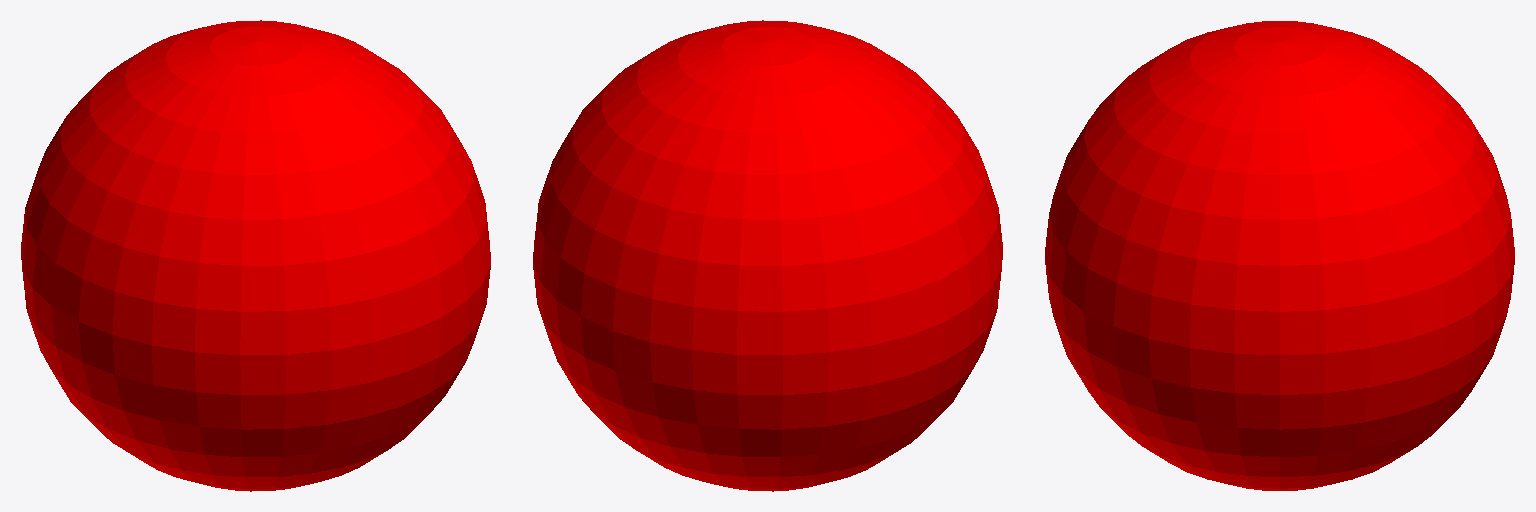
URDF robot description (z-bot2_fe_urdf):
<?xml version="1.0" ?>
<robot name="z-bot2_fe_urdf">
  <link name="floating_base_link">
    <visual name="floating_base_link_visual">
      <geometry name="floating_base_link_geometry">
        <sphere radius="0.01"/>
      </geometry>
      <material name="floating_base_link_material">
        <color rgba="1 0 0 1"/>
      </material>
      <origin xyz="0 0 0" rpy="0.00 0.00 1.57"/>
    </visual>
    <inertial name="floating_base_link_inertial">
      <mass value="0.001"/>
      <inertia ixx="0.000001" iyy="0.000001" izz="0.000002" ixy="0" ixz="0" iyz="0"/>
      <origin xyz="0 0 0" rpy="0.00 0.00 1.57"/>
    </inertial>
  </link>
  <joint name="floating_base_joint" type="fixed">
    <parent link="floating_base_link"/>
    <child link="Z_BOT2_MASTER_BODY_SKELETON"/>
    <origin xyz="0 0 0" rpy="0.00 0.00 1.57"/>
  </joint>
  <joint name="imu" type="fixed">
    <origin xyz="0.044470 0.006575 -0.025518" rpy="1.570796 0 -1.570796"/>
    <parent link="Z_BOT2_MASTER_BODY_SKELETON"/>
    <child link="IMU_2"/>
  </joint>
  <joint name="left_shoulder_yaw" type="revolute">
    <origin xyz="0.055995 -0.010610 -0.009528" rpy="1.570796 0 -3.141593"/>
    <parent link="Z_BOT2_MASTER_BODY_SKELETON"/>
    <child link="Z_BOT2_MASTER_SHOULDER2"/>
    <limit effort="2" velocity="2" lower="-1.047198" upper="0"/>
    <axis xyz="0 0 1"/>
  </joint>
  <joint name="right_shoulder_yaw" type="revolute">
    <origin xyz="-0.055995 -0.010610 -0.009528" rpy="-1.570796 0 0"/>
    <parent link="Z_BOT2_MASTER_BODY_SKELETON"/>
    <child link="Z_BOT2_MASTER_SHOULDER2_2"/>
    <limit effort="2" velocity="2" lower="0" upper="1.047198"/>
    <axis xyz="0 0 1"/>
  </joint>
  <joint name="left_hip_yaw" type="revolute">
    <origin xyz="0.042808 0.007735 -0.083418" rpy="3.141593 0 3.141593"/>
    <parent link="Z_BOT2_MASTER_BODY_SKELETON"/>
    <child link="U_HIP_L"/>
    <limit effort="2" velocity="2" lower="-1.047198" upper="1.047198"/>
    <axis xyz="0 0 1"/>
  </joint>
  <joint name="right_hip_yaw" type="revolute">
    <origin xyz="-0.042868 0.007735 -0.083418" rpy="3.141593 0 3.141593"/>
    <parent link="Z_BOT2_MASTER_BODY_SKELETON"/>
    <child link="U_HIP_R"/>
    <limit effort="2" velocity="2" lower="-1.047198" upper="1.047198"/>
    <axis xyz="0 0 1"/>
  </joint>
  <joint name="left_shoulder_pitch" type="revolute">
    <origin xyz="-0.020845 -0.004900 0.018800" rpy="-1.570796 0 -1.570796"/>
    <parent link="Z_BOT2_MASTER_SHOULDER2"/>
    <child link="3215_1Flange"/>
    <limit effort="2" velocity="2" lower="-2.967060" upper="3.141593"/>
    <axis xyz="0 0 1"/>
  </joint>
  <joint name="right_shoulder_pitch" type="revolute">
    <origin xyz="-0.020845 0.004900 0.018800" rpy="1.570796 0 1.570796"/>
    <parent link="Z_BOT2_MASTER_SHOULDER2_2"/>
    <child link="3215_1Flange_2"/>
    <limit effort="2" velocity="2" lower="-3.141593" upper="2.967060"/>
    <axis xyz="0 0 1"/>
  </joint>
  <joint name="left_hip_roll" type="revolute">
    <origin xyz="0 0.017700 0.056400" rpy="-1.570796 0 0"/>
    <parent link="U_HIP_L"/>
    <child link="3215_BothFlange_5"/>
    <limit effort="2" velocity="2" lower="-0.174533" upper="1.570796"/>
    <axis xyz="0 0 -1.0"/>
  </joint>
  <joint name="right_hip_roll" type="revolute">
    <origin xyz="0 -0.017700 0.056400" rpy="-1.570796 0 -3.141593"/>
    <parent link="U_HIP_R"/>
    <child link="3215_BothFlange_6"/>
    <limit effort="2" velocity="2" lower="-1.570796" upper="0.174533"/>
    <axis xyz="0 0 1"/>
  </joint>
  <joint name="left_hip_pitch" type="revolute">
    <origin xyz="-0.006400 -0.032000 -0.017900" rpy="1.570796 0 -1.570796"/>
    <parent link="3215_BothFlange_5"/>
    <child link="3215_BothFlange_9"/>
    <limit effort="2" velocity="2" lower="-1.570796" upper="1.570796"/>
    <axis xyz="0 0 1"/>
  </joint>
  <joint name="right_hip_pitch" type="revolute">
    <origin xyz="-0.006400 -0.032000 -0.018900" rpy="1.570796 0 -1.570796"/>
    <parent link="3215_BothFlange_6"/>
    <child link="3215_BothFlange_10"/>
    <limit effort="2" velocity="2" lower="-1.570796" upper="1.570796"/>
    <axis xyz="0 0 1"/>
  </joint>
  <joint name="left_elbow" type="revolute">
    <origin xyz="0.092984 0.019800 -0.018600" rpy="1.570796 0 3.141593"/>
    <parent link="3215_1Flange"/>
    <child link="R_ARM_MIRROR_1"/>
    <limit effort="2" velocity="2" lower="-1.570796" upper="1.570796"/>
    <axis xyz="0 0 -1"/>
  </joint>
  <joint name="right_elbow" type="revolute">
    <origin xyz="0.092984 -0.019800 -0.018600" rpy="-1.570796 -1.570796 0"/>
    <parent link="3215_1Flange_2"/>
    <child link="L_ARM_MIRROR_1"/>
    <limit effort="2" velocity="2" lower="-1.570796" upper="1.570796"/>
    <axis xyz="0 0 1"/>
  </joint>
  <joint name="left_knee" type="revolute">
    <origin xyz="0.100000 0.010000 -0.001260" rpy="0 0 0"/>
    <parent link="3215_BothFlange_9"/>
    <child link="3215_BothFlange_13"/>
    <limit effort="2" velocity="2" lower="-1.221731" upper="2.792527"/>
    <axis xyz="0 0 1"/>
  </joint>
  <joint name="right_knee" type="revolute">
    <origin xyz="0.100000 -0.010000 -0.001260" rpy="0 0 0"/>
    <parent link="3215_BothFlange_10"/>
    <child link="3215_BothFlange_14"/>
    <limit effort="2" velocity="2" lower="-2.792527" upper="1.221731"/>
    <axis xyz="0 0 1"/>
  </joint>
  <joint name="left_gripper" type="revolute">
    <origin xyz="-0.066206 -0.011778 0.001260" rpy="3.141593 0 1.919862"/>
    <parent link="R_ARM_MIRROR_1"/>
    <child link="FINGER_1"/>
    <limit effort="2" velocity="2" lower="-0.349066" upper="0.698132"/>
    <axis xyz="0 0 1"/>
  </joint>
  <joint name="right_gripper" type="revolute">
    <origin xyz="-0.011778 0.066206 -0.001260" rpy="0 0 0.349066"/>
    <parent link="L_ARM_MIRROR_1"/>
    <child link="FINGER_1_2"/>
    <limit effort="2" velocity="2" lower="-0.698132" upper="0.349066"/>
    <axis xyz="0 0 1"/>
  </joint>
  <joint name="left_ankle" type="revolute">
    <origin xyz="0.100000 0 0.000800" rpy="-3.141593 0 1.570796"/>
    <parent link="3215_BothFlange_13"/>
    <child link="FOOT"/>
    <limit effort="2" velocity="2" lower="-1.570796" upper="1.570796"/>
    <axis xyz="0 0 1"/>
  </joint>
  <joint name="right_ankle" type="revolute">
    <origin xyz="0.100000 0 0.001000" rpy="-3.141593 0 -1.570796"/>
    <parent link="3215_BothFlange_14"/>
    <child link="FOOT_2"/>
    <limit effort="2" velocity="2" lower="-1.570796" upper="1.570796"/>
    <axis xyz="0 0 1"/>
  </joint>
  <link name="Z_BOT2_MASTER_BODY_SKELETON">
    <visual name="Z_BOT2_MASTER_BODY_SKELETON_visual">
      <origin xyz="0 0 0" rpy="0 0 0"/>
      <geometry name="Z_BOT2_MASTER_BODY_SKELETON_geometry">
        <mesh filename="meshes/Z_BOT2_MASTER_BODY_SKELETON.stl"/>
      </geometry>
      <material name="Z_BOT2_MASTER_BODY_SKELETON_material">
        <color rgba="0.494118 0.623529 0.749020 1"/>
      </material>
    </visual>
    <collision name="Z_BOT2_MASTER_BODY_SKELETON.collision">
      <origin xyz="0 0 0" rpy="0 0 0"/>
      <geometry name="Z_BOT2_MASTER_BODY_SKELETON_collision_geometry">
        <mesh filename="meshes/Z_BOT2_MASTER_BODY_SKELETON.collision.stl"/>
      </geometry>
    </collision>
    <inertial name="Z_BOT2_MASTER_BODY_SKELETON_inertial">
      <mass value="1.546392"/>
      <inertia ixx="0.004795" iyy="0.005455" izz="0.002588" ixy="0.000008" ixz="0.000010" iyz="-0.000041"/>
      <origin xyz="-0.000189 0.010193 -0.031201" rpy="0 0 0"/>
    </inertial>
  </link>
  <link name="IMU_2">
    <visual name="IMU_visual">
      <origin xyz="0 0 0" rpy="0 0 0"/>
      <geometry name="IMU_geometry">
        <mesh filename="meshes/IMU.stl"/>
      </geometry>
      <material name="IMU_material">
        <color rgba="0 1 0 1"/>
      </material>
    </visual>
    <inertial name="IMU_inertial">
      <mass value="0.001887"/>
      <inertia ixx="0.000001" iyy="0.000001" izz="0.000001" ixy="0" ixz="0" iyz="0"/>
      <origin xyz="-0.010000 -0.007500 -0.001235" rpy="0 0 0"/>
    </inertial>
  </link>
  <link name="Z_BOT2_MASTER_SHOULDER2">
    <visual name="Z_BOT2_MASTER_SHOULDER2_visual">
      <origin xyz="0 0 0" rpy="0 0 0"/>
      <geometry name="Z_BOT2_MASTER_SHOULDER2_geometry">
        <mesh filename="meshes/Z_BOT2_MASTER_SHOULDER2.stl"/>
      </geometry>
      <material name="Z_BOT2_MASTER_SHOULDER2_material">
        <color rgba="0.364706 0.360784 0.749020 1"/>
      </material>
    </visual>
    <inertial name="Z_BOT2_MASTER_SHOULDER2_inertial">
      <mass value="0.024098"/>
      <inertia ixx="0.000007" iyy="0.000008" izz="0.000003" ixy="0" ixz="0" iyz="0"/>
      <origin xyz="-0.012788 0.001374 0.018800" rpy="0 0 0"/>
    </inertial>
  </link>
  <link name="Z_BOT2_MASTER_SHOULDER2_2">
    <visual name="Z_BOT2_MASTER_SHOULDER2_visual_2">
      <origin xyz="0 0 0" rpy="0 0 0"/>
      <geometry name="Z_BOT2_MASTER_SHOULDER2_geometry_2">
        <mesh filename="meshes/Z_BOT2_MASTER_SHOULDER2_2.stl"/>
      </geometry>
      <material name="Z_BOT2_MASTER_SHOULDER2_material_2">
        <color rgba="0.364706 0.360784 0.749020 1"/>
      </material>
    </visual>
    <inertial name="Z_BOT2_MASTER_SHOULDER2_inertial_2">
      <mass value="0.024098"/>
      <inertia ixx="0.000007" iyy="0.000008" izz="0.000003" ixy="0" ixz="0" iyz="0"/>
      <origin xyz="-0.012788 -0.001374 0.018800" rpy="0 0 0"/>
    </inertial>
  </link>
  <link name="U_HIP_L">
    <visual name="U_HIP_L_visual">
      <origin xyz="0 0 0" rpy="0 0 0"/>
      <geometry name="U_HIP_L_geometry">
        <mesh filename="meshes/U_HIP_L.stl"/>
      </geometry>
      <material name="U_HIP_L_material">
        <color rgba="0.768627 0.886275 0.952941 1"/>
      </material>
    </visual>
    <inertial name="U_HIP_L_inertial">
      <mass value="0.047132"/>
      <inertia ixx="0.000029" iyy="0.000030" izz="0.000019" ixy="0.000004" ixz="-0.000008" iyz="0.000004"/>
      <origin xyz="-0.001161 -0.004396 0.035396" rpy="0 0 0"/>
    </inertial>
  </link>
  <link name="U_HIP_R">
    <visual name="U_HIP_R_visual">
      <origin xyz="0 0 0" rpy="0 0 0"/>
      <geometry name="U_HIP_R_geometry">
        <mesh filename="meshes/U_HIP_R.stl"/>
      </geometry>
      <material name="U_HIP_R_material">
        <color rgba="0.768627 0.886275 0.952941 1"/>
      </material>
    </visual>
    <inertial name="U_HIP_R_inertial">
      <mass value="0.047132"/>
      <inertia ixx="0.000029" iyy="0.000030" izz="0.000019" ixy="-0.000004" ixz="0.000008" iyz="0.000004"/>
      <origin xyz="0.001161 -0.004396 0.035396" rpy="0 0 0"/>
    </inertial>
  </link>
  <link name="3215_1Flange">
    <visual name="3215_1Flange_visual">
      <origin xyz="0 0 0" rpy="0 0 0"/>
      <geometry name="3215_1Flange_geometry">
        <mesh filename="meshes/3215_1Flange.stl"/>
      </geometry>
      <material name="3215_1Flange_material">
        <color rgba="0.749020 0.498039 0.725490 1"/>
      </material>
    </visual>
    <collision name="3215_1Flange.collision">
      <origin xyz="0 0 0" rpy="0 0 0"/>
      <geometry name="3215_1Flange_collision_geometry">
        <mesh filename="meshes/3215_1Flange.collision.stl"/>
      </geometry>
    </collision>
    <inertial name="3215_1Flange_inertial">
      <mass value="0.181960"/>
      <inertia ixx="0.000054" iyy="0.000228" izz="0.000232" ixy="-0.000004" ixz="0.000006" iyz="0"/>
      <origin xyz="0.033642 0.000438 -0.019963" rpy="0 0 0"/>
    </inertial>
  </link>
  <link name="3215_1Flange_2">
    <visual name="3215_1Flange_visual_2">
      <origin xyz="0 0 0" rpy="0 0 0"/>
      <geometry name="3215_1Flange_geometry_2">
        <mesh filename="meshes/3215_1Flange_2.stl"/>
      </geometry>
      <material name="3215_1Flange_material_2">
        <color rgba="0.749020 0.498039 0.725490 1"/>
      </material>
    </visual>
    <collision name="3215_1Flange.collision_2">
      <origin xyz="0 0 0" rpy="0 0 0"/>
      <geometry name="3215_1Flange_collision_geometry_2">
        <mesh filename="meshes/3215_1Flange_2.collision.stl"/>
      </geometry>
    </collision>
    <inertial name="3215_1Flange_inertial_2">
      <mass value="0.181960"/>
      <inertia ixx="0.000054" iyy="0.000228" izz="0.000232" ixy="0.000004" ixz="0.000006" iyz="0"/>
      <origin xyz="0.033642 -0.000433 -0.019968" rpy="0 0 0"/>
    </inertial>
  </link>
  <link name="3215_BothFlange_5">
    <visual name="3215_BothFlange_visual_5">
      <origin xyz="0 0 0" rpy="0 0 0"/>
      <geometry name="3215_BothFlange_geometry_5">
        <mesh filename="meshes/3215_BothFlange_5.stl"/>
      </geometry>
      <material name="3215_BothFlange_material_5">
        <color rgba="1 0 0 1"/>
      </material>
    </visual>
    <inertial name="3215_BothFlange_inertial_5">
      <mass value="0.068295"/>
      <inertia ixx="0.000019" iyy="0.000024" izz="0.000025" ixy="0" ixz="0" iyz="0"/>
      <origin xyz="0.012332 -0.008997 -0.018508" rpy="0 0 0"/>
    </inertial>
  </link>
  <link name="3215_BothFlange_6">
    <visual name="3215_BothFlange_visual_6">
      <origin xyz="0 0 0" rpy="0 0 0"/>
      <geometry name="3215_BothFlange_geometry_6">
        <mesh filename="meshes/3215_BothFlange_6.stl"/>
      </geometry>
      <material name="3215_BothFlange_material_6">
        <color rgba="1 0 0 1"/>
      </material>
    </visual>
    <inertial name="3215_BothFlange_inertial_6">
      <mass value="0.068295"/>
      <inertia ixx="0.000019" iyy="0.000024" izz="0.000025" ixy="0" ixz="0" iyz="0"/>
      <origin xyz="0.012332 -0.008983 -0.017811" rpy="0 0 0"/>
    </inertial>
  </link>
  <link name="3215_BothFlange_9">
    <visual name="3215_BothFlange_visual_9">
      <origin xyz="0 0 0" rpy="0 0 0"/>
      <geometry name="3215_BothFlange_geometry_9">
        <mesh filename="meshes/3215_BothFlange_9.stl"/>
      </geometry>
      <material name="3215_BothFlange_material_9">
        <color rgba="1 0 0 1"/>
      </material>
    </visual>
    <collision name="3215_BothFlange.collision_9">
      <origin xyz="0 0 0" rpy="0 0 0"/>
      <geometry name="3215_BothFlange_collision_geometry_9">
        <mesh filename="meshes/3215_BothFlange_9.collision.stl"/>
      </geometry>
    </collision>
    <inertial name="3215_BothFlange_inertial_9">
      <mass value="0.143337"/>
      <inertia ixx="0.000049" iyy="0.000148" izz="0.000128" ixy="0.000003" ixz="0.000002" iyz="0"/>
      <origin xyz="0.043662 -0.002857 -0.018525" rpy="0 0 0"/>
    </inertial>
  </link>
  <link name="3215_BothFlange_10">
    <visual name="3215_BothFlange_visual_10">
      <origin xyz="0 0 0" rpy="0 0 0"/>
      <geometry name="3215_BothFlange_geometry_10">
        <mesh filename="meshes/3215_BothFlange_10.stl"/>
      </geometry>
      <material name="3215_BothFlange_material_10">
        <color rgba="1 0 0 1"/>
      </material>
    </visual>
    <collision name="3215_BothFlange.collision_10">
      <origin xyz="0 0 0" rpy="0 0 0"/>
      <geometry name="3215_BothFlange_collision_geometry_10">
        <mesh filename="meshes/3215_BothFlange_10.collision.stl"/>
      </geometry>
    </collision>
    <inertial name="3215_BothFlange_inertial_10">
      <mass value="0.143337"/>
      <inertia ixx="0.000049" iyy="0.000148" izz="0.000128" ixy="-0.000003" ixz="0.000002" iyz="0"/>
      <origin xyz="0.043662 0.002863 -0.018537" rpy="0 0 0"/>
    </inertial>
  </link>
  <link name="R_ARM_MIRROR_1">
    <visual name="R_ARM_MIRROR_1_visual">
      <origin xyz="0 0 0" rpy="0 0 0"/>
      <geometry name="R_ARM_MIRROR_1_geometry">
        <mesh filename="meshes/R_ARM_MIRROR_1.stl"/>
      </geometry>
      <material name="R_ARM_MIRROR_1_material">
        <color rgba="0.647059 0.647059 0.647059 1"/>
      </material>
    </visual>
    <collision name="R_ARM_MIRROR_1.collision">
      <origin xyz="0 0 0" rpy="0 0 0"/>
      <geometry name="R_ARM_MIRROR_1_collision_geometry">
        <mesh filename="meshes/R_ARM_MIRROR_1.collision.stl"/>
      </geometry>
    </collision>
    <inertial name="R_ARM_MIRROR_1_inertial">
      <mass value="0.186073"/>
      <inertia ixx="0.000061" iyy="0.000218" izz="0.000201" ixy="0.000021" ixz="0" iyz="0.000002"/>
      <origin xyz="-0.051119 0.001150 -0.017743" rpy="0 0 0"/>
    </inertial>
  </link>
  <link name="L_ARM_MIRROR_1">
    <visual name="L_ARM_MIRROR_1_visual">
      <origin xyz="0 0 0" rpy="0 0 0"/>
      <geometry name="L_ARM_MIRROR_1_geometry">
        <mesh filename="meshes/L_ARM_MIRROR_1.stl"/>
      </geometry>
      <material name="L_ARM_MIRROR_1_material">
        <color rgba="0.627451 0.627451 0.627451 1"/>
      </material>
    </visual>
    <collision name="L_ARM_MIRROR_1.collision">
      <origin xyz="0 0 0" rpy="0 0 0"/>
      <geometry name="L_ARM_MIRROR_1_collision_geometry">
        <mesh filename="meshes/L_ARM_MIRROR_1.collision.stl"/>
      </geometry>
    </collision>
    <inertial name="L_ARM_MIRROR_1_inertial">
      <mass value="0.186073"/>
      <inertia ixx="0.000218" iyy="0.000061" izz="0.000201" ixy="-0.000021" ixz="-0.000002" iyz="0"/>
      <origin xyz="0.001144 0.051123 0.017764" rpy="0 0 0"/>
    </inertial>
  </link>
  <link name="3215_BothFlange_13">
    <visual name="3215_BothFlange_visual_13">
      <origin xyz="0 0 0" rpy="0 0 0"/>
      <geometry name="3215_BothFlange_geometry_13">
        <mesh filename="meshes/3215_BothFlange_13.stl"/>
      </geometry>
      <material name="3215_BothFlange_material_13">
        <color rgba="1 0 0 1"/>
      </material>
    </visual>
    <collision name="3215_BothFlange.collision_13">
      <origin xyz="0 0 0" rpy="0 0 0"/>
      <geometry name="3215_BothFlange_collision_geometry_13">
        <mesh filename="meshes/3215_BothFlange_13.collision.stl"/>
      </geometry>
    </collision>
    <inertial name="3215_BothFlange_inertial_13">
      <mass value="0.128213"/>
      <inertia ixx="0.000035" iyy="0.000154" izz="0.000145" ixy="0" ixz="0" iyz="0"/>
      <origin xyz="0.050000 0 -0.017988" rpy="0 0 0"/>
    </inertial>
  </link>
  <link name="3215_BothFlange_14">
    <visual name="3215_BothFlange_visual_14">
      <origin xyz="0 0 0" rpy="0 0 0"/>
      <geometry name="3215_BothFlange_geometry_14">
        <mesh filename="meshes/3215_BothFlange_14.stl"/>
      </geometry>
      <material name="3215_BothFlange_material_14">
        <color rgba="1 0 0 1"/>
      </material>
    </visual>
    <collision name="3215_BothFlange.collision_14">
      <origin xyz="0 0 0" rpy="0 0 0"/>
      <geometry name="3215_BothFlange_collision_geometry_14">
        <mesh filename="meshes/3215_BothFlange_14.collision.stl"/>
      </geometry>
    </collision>
    <inertial name="3215_BothFlange_inertial_14">
      <mass value="0.128213"/>
      <inertia ixx="0.000036" iyy="0.000155" izz="0.000145" ixy="0" ixz="0" iyz="0"/>
      <origin xyz="0.050000 0 -0.017888" rpy="0 0 0"/>
    </inertial>
  </link>
  <link name="FINGER_1">
    <visual name="FINGER_1_visual">
      <origin xyz="0 0 0" rpy="0 0 0"/>
      <geometry name="FINGER_1_geometry">
        <mesh filename="meshes/FINGER_1.stl"/>
      </geometry>
      <material name="FINGER_1_material">
        <color rgba="0.627451 0.627451 0.627451 1"/>
      </material>
    </visual>
    <collision name="FINGER_1.collision">
      <origin xyz="0 0 0" rpy="0 0 0"/>
      <geometry name="FINGER_1_collision_geometry">
        <mesh filename="meshes/FINGER_1.collision.stl"/>
      </geometry>
    </collision>
    <inertial name="FINGER_1_inertial">
      <mass value="0.044318"/>
      <inertia ixx="0.000023" iyy="0.000010" izz="0.000016" ixy="-0.000002" ixz="0" iyz="0"/>
      <origin xyz="-0.010671 -0.028985 0.018800" rpy="0 0 0"/>
    </inertial>
  </link>
  <link name="FINGER_1_2">
    <visual name="FINGER_1_visual_2">
      <origin xyz="0 0 0" rpy="0 0 0"/>
      <geometry name="FINGER_1_geometry_2">
        <mesh filename="meshes/FINGER_1_2.stl"/>
      </geometry>
      <material name="FINGER_1_material_2">
        <color rgba="0.627451 0.627451 0.627451 1"/>
      </material>
    </visual>
    <collision name="FINGER_1.collision_2">
      <origin xyz="0 0 0" rpy="0 0 0"/>
      <geometry name="FINGER_1_collision_geometry_2">
        <mesh filename="meshes/FINGER_1_2.collision.stl"/>
      </geometry>
    </collision>
    <inertial name="FINGER_1_inertial_2">
      <mass value="0.044318"/>
      <inertia ixx="0.000023" iyy="0.000010" izz="0.000016" ixy="0.000002" ixz="0" iyz="0"/>
      <origin xyz="-0.010671 0.028985 0.018799" rpy="0 0 0"/>
    </inertial>
  </link>
  <link name="FOOT">
    <visual name="FOOT_visual">
      <origin xyz="0 0 0" rpy="0 0 0"/>
      <geometry name="FOOT_geometry">
        <mesh filename="meshes/FOOT.stl"/>
      </geometry>
      <material name="FOOT_material">
        <color rgba="0.627451 0.627451 0.627451 1"/>
      </material>
    </visual>
    <collision name="FOOT.collision">
      <origin xyz="0 0 0" rpy="0 0 0"/>
      <geometry name="FOOT_collision_geometry">
        <mesh filename="meshes/FOOT.collision.stl"/>
      </geometry>
    </collision>
    <inertial name="FOOT_inertial">
      <mass value="0.278140"/>
      <inertia ixx="0.000045" iyy="0.000205" izz="0.000182" ixy="0.000005" ixz="0" iyz="0"/>
      <origin xyz="-0.015078 0.027835 0.018700" rpy="0 0 0"/>
    </inertial>
  </link>
  <link name="FOOT_2">
    <visual name="FOOT_visual_2">
      <origin xyz="0 0 0" rpy="0 0 0"/>
      <geometry name="FOOT_geometry_2">
        <mesh filename="meshes/FOOT_2.stl"/>
      </geometry>
      <material name="FOOT_material_2">
        <color rgba="0.627451 0.627451 0.627451 1"/>
      </material>
    </visual>
    <collision name="FOOT.collision_2">
      <origin xyz="0 0 0" rpy="0 0 0"/>
      <geometry name="FOOT_collision_geometry_2">
        <mesh filename="meshes/FOOT_2.collision.stl"/>
      </geometry>
    </collision>
    <inertial name="FOOT_inertial_2">
      <mass value="0.278140"/>
      <inertia ixx="0.000045" iyy="0.000205" izz="0.000182" ixy="-0.000005" ixz="0" iyz="0"/>
      <origin xyz="-0.015078 -0.027835 0.018700" rpy="0 0 0"/>
    </inertial>
  </link>
</robot>

--- Facts derived from the render (not from the file) ---
3 views of the same robot in one strip: view 1: azimuth 30°, elevation 25°; view 2: azimuth 150°, elevation 25°; view 3: azimuth 270°, elevation 25° (orthographic).
Robot: z-bot2_fe_urdf — 21 links, 20 joints (18 revolute, 2 fixed); root link floating_base_link; default pose: every joint at zero.
Visible links, largest first — view 1: floating_base_link; view 2: floating_base_link; view 3: floating_base_link.
Boxes of the visible links, <box> form: floating_base_link: <box>21,20,490,491</box>; floating_base_link: <box>533,20,1002,491</box>; floating_base_link: <box>1045,21,1514,490</box>.
Size in the robot's own frame: 0.02 by 0.02 by 0.02 metres.
0 mesh visuals loaded from 20 distinct referenced files (none loaded); not drawn: 20 (file found but could not be loaded).